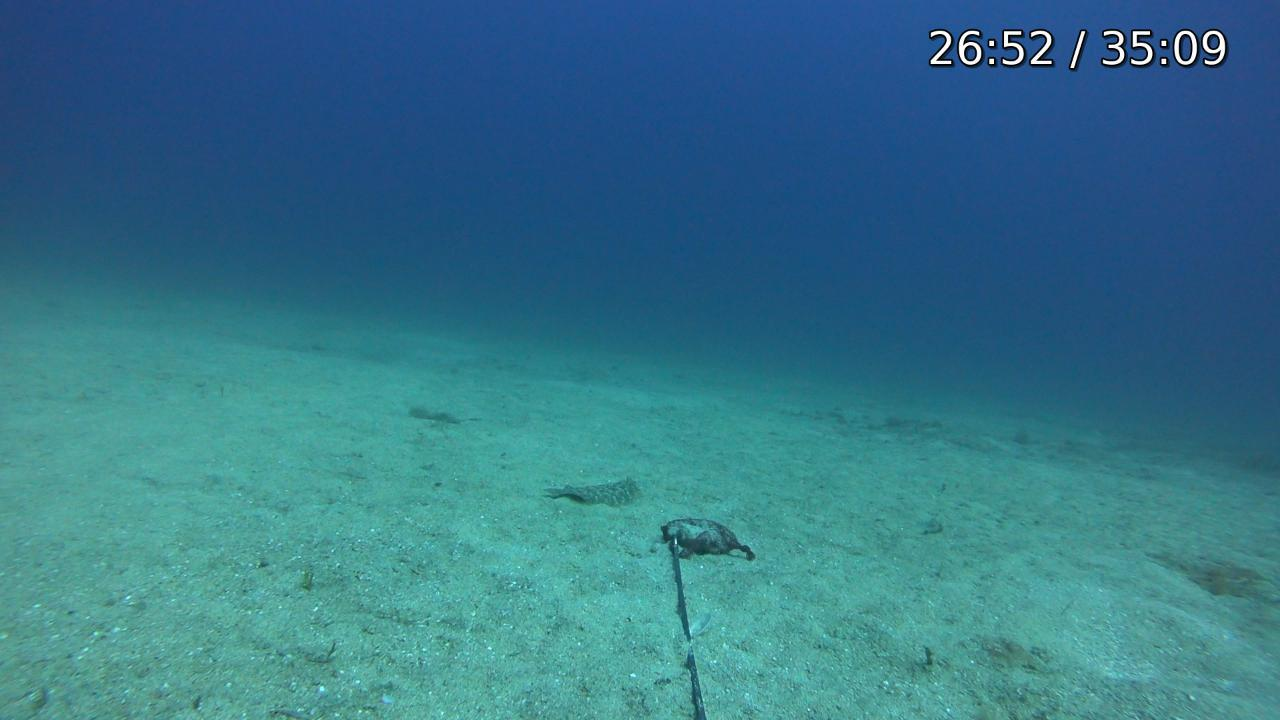bothus: (544, 468, 645, 510)
